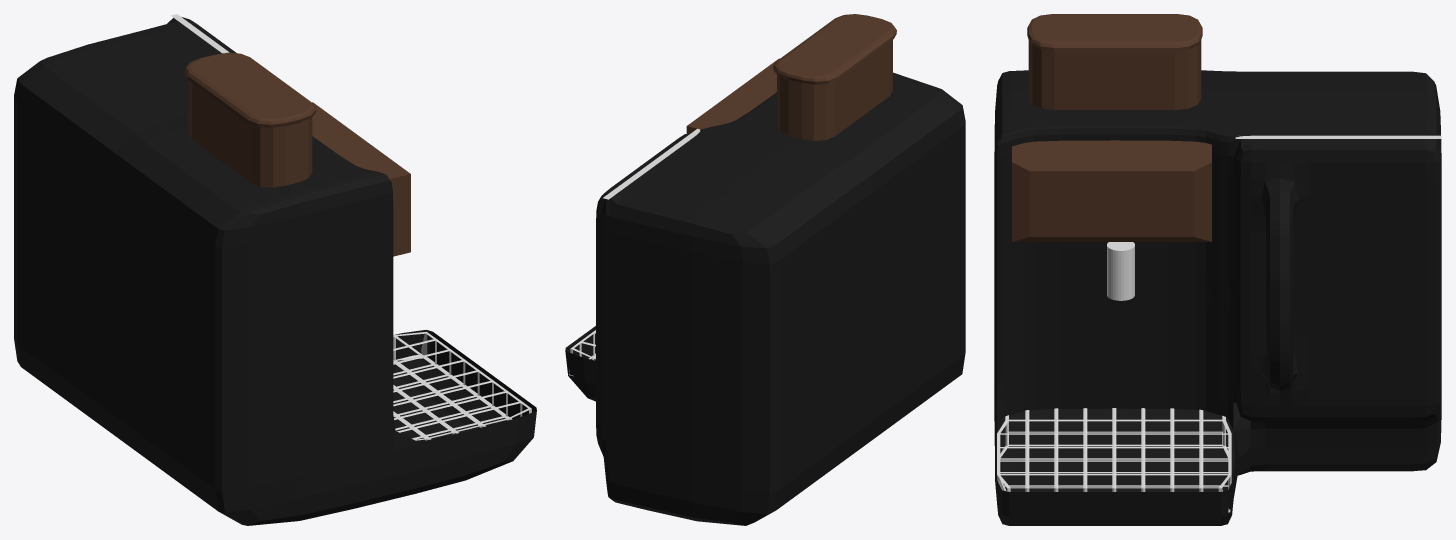
Rendered from 咖啡機.fbx.
The picture shows the model from 3 angles, left to right: view 1: azimuth 30°, elevation 25°; view 2: azimuth 150°, elevation 25°; view 3: azimuth 270°, elevation 25°; orthographic projection. The views are drawn at different scales.
Parts seen in each view (by area): view 1: Cube, Cube.004, Cube.001, Cube.003; view 2: Cube, Cube.004, Cube.003, Cube.005; view 3: Cube, Cube.003, Cube.004, Cube.001, Cylinder, Cube.005.
Part boxes in pixels (x1,y1,x2,y2): Cube: (14, 17, 536, 525); Cube.004: (184, 52, 316, 187); Cube.001: (393, 331, 531, 440); Cube.003: (312, 102, 410, 256); Cube: (565, 72, 965, 525); Cube.004: (773, 14, 896, 140); Cube.003: (686, 58, 779, 133); Cube.005: (603, 128, 700, 199); Cube: (994, 70, 1441, 525); Cube.003: (1012, 140, 1211, 241); Cube.004: (1027, 14, 1202, 109); Cube.001: (997, 408, 1231, 512); Cylinder: (1107, 242, 1134, 300); Cube.005: (1235, 135, 1441, 138).
Bounding box in the file's own units: 369 × 434 × 436.
